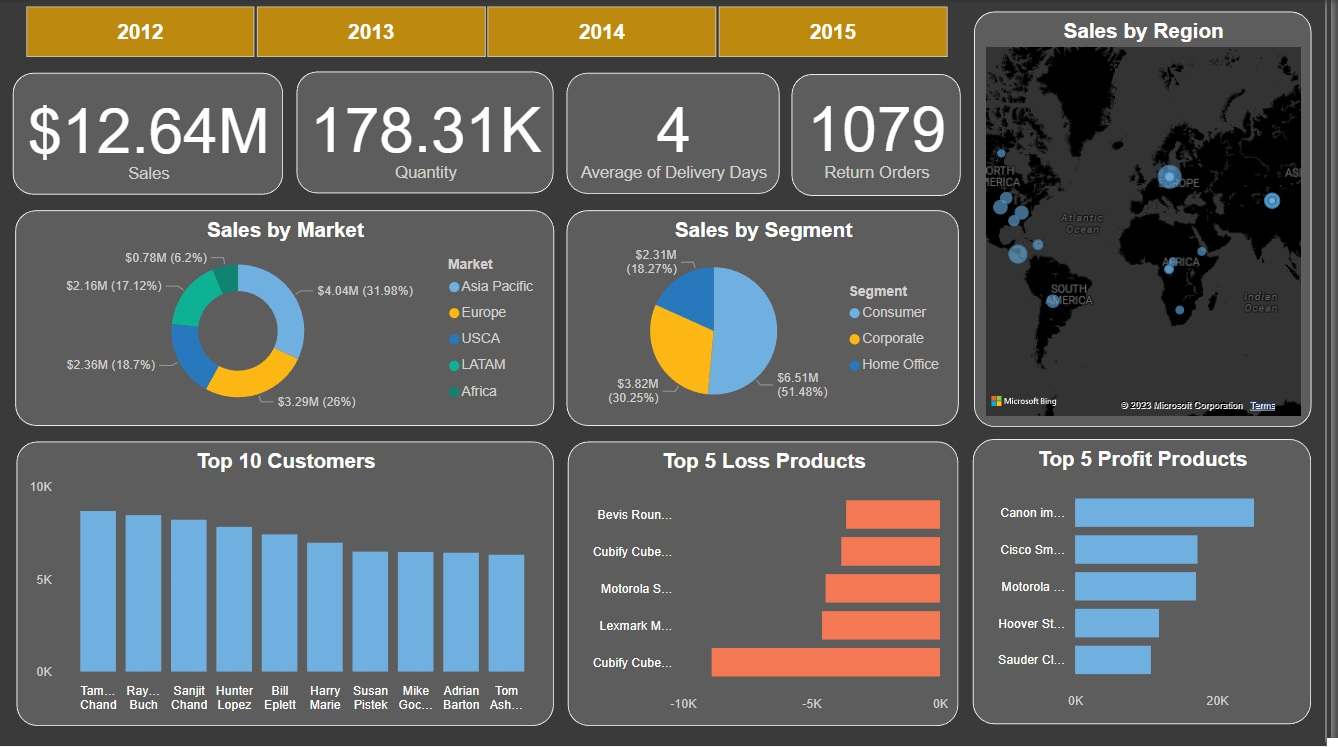

This screenshot's page, from the dashboard's own definition file:
{"tool":"powerbi","page":{"name":"Page 1","canvas":[1280,720],"ordinal":0},"visuals":[{"type":"card","fields":{"Values":["Sum(Orders.Sales)"]},"box":[13.7,71.3,260.5,117.9],"z":0},{"type":"card","fields":{"Values":["Sum(Orders.Quantity)"]},"box":[286.5,69.9,248.2,117.9],"z":1000},{"type":"card","fields":{"Values":["Avg(Orders.Delivery Days)"]},"box":[547,71.3,205.7,116.5],"z":2000},{"type":"slicer","fields":{"Values":["Orders.Year"]},"box":[0,0,938.9,63.2],"z":3000},{"type":"card","fields":{"Values":["Sum(Returns.Return Orders)"]},"box":[765,72.7,163.2,117.9],"z":4000},{"type":"barChart","title":"Top 5 Profit Products","fields":{"Y":["Sum(Orders.Profit)"],"Category":["Orders.Product Name"]},"box":[939.2,425,326.3,275.6],"z":5000},{"type":"map","title":"Sales by Region","fields":{"Category":["Orders.Region"],"Size":["Sum(Orders.Sales)"]},"box":[940.2,12.1,325.5,400.8],"z":6000},{"type":"barChart","title":"Top 5 Loss Products","fields":{"Y":["Sum(Orders.Profit)"],"Category":["Orders.Product Name"]},"box":[548.4,426.4,377,274.2],"z":7000},{"type":"pieChart","title":"Sales by Segment","fields":{"Category":["Orders.Segment"],"Y":["Sum(Orders.Sales)"]},"box":[547,204.3,378.4,208.4],"z":8000},{"type":"donutChart","title":"Sales by Market","fields":{"Y":["Sum(Orders.Sales)"],"Category":["Orders.Market"]},"box":[15.1,204.3,519.6,208.4],"z":9000},{"type":"clusteredColumnChart","title":"Top 10 Customers","fields":{"Category":["Orders.Customer Name"],"Y":["Sum(Orders.Profit)"]},"box":[16.5,426.4,518.3,274.2],"z":10000}]}

Visuals, with their boxes in screenshot pixels (x1, y1, x2, y2), scaled from the page's 1280x720 canvas onto the 1338x747 screenshot:
card - Sum(Orders.Sales): [left=14, top=74, right=287, bottom=196]
card - Sum(Orders.Quantity): [left=299, top=73, right=559, bottom=195]
card - Avg(Orders.Delivery Days): [left=572, top=74, right=787, bottom=195]
slicer - Orders.Year: [left=0, top=0, right=981, bottom=66]
card - Sum(Returns.Return Orders): [left=800, top=75, right=970, bottom=198]
"Top 5 Profit Products" barChart: [left=982, top=441, right=1323, bottom=727]
"Sales by Region" map: [left=983, top=13, right=1323, bottom=428]
"Top 5 Loss Products" barChart: [left=573, top=442, right=967, bottom=727]
"Sales by Segment" pieChart: [left=572, top=212, right=967, bottom=428]
"Sales by Market" donutChart: [left=16, top=212, right=559, bottom=428]
"Top 10 Customers" clusteredColumnChart: [left=17, top=442, right=559, bottom=727]
